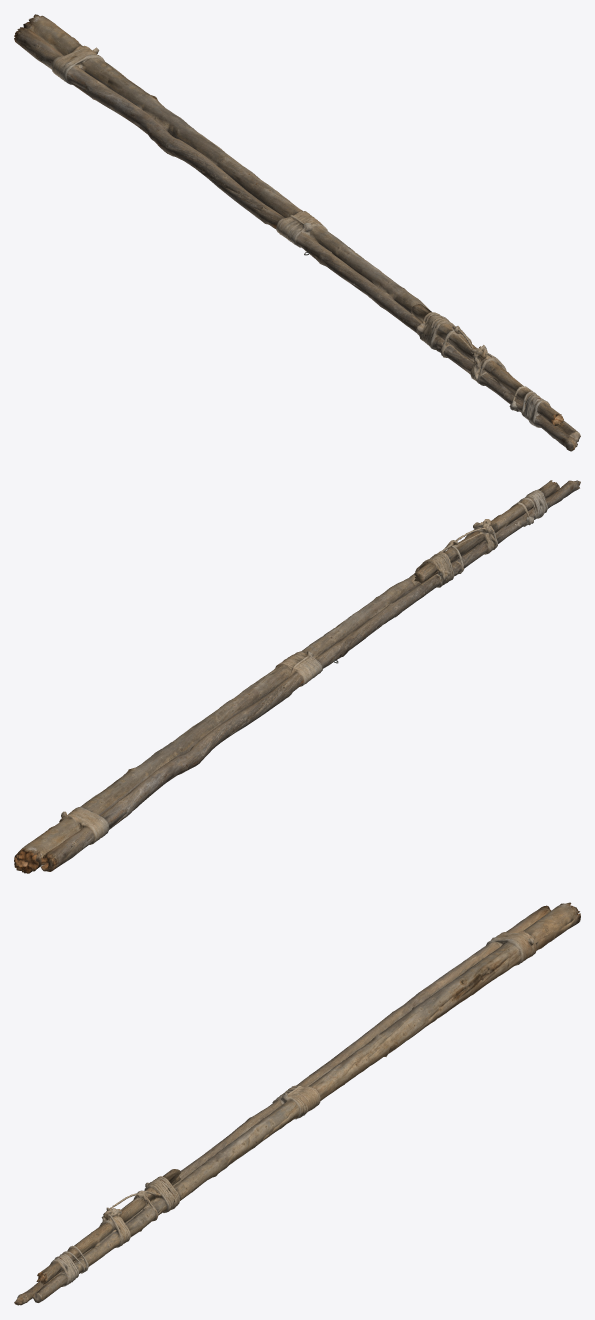
The picture shows the model from 3 angles, top to bottom: view 1: azimuth 30°, elevation 25°; view 2: azimuth 150°, elevation 25°; view 3: azimuth 330°, elevation 25°; orthographic projection. The views are drawn at different scales.
Visible parts, largest first — view 1: ueqfdi0ga_LOD0_TIER2_000; view 2: ueqfdi0ga_LOD0_TIER2_000; view 3: ueqfdi0ga_LOD0_TIER2_000.
Boxes of the visible parts, x1=… form: ueqfdi0ga_LOD0_TIER2_000: x1=14, y1=14, x2=580, y2=451; ueqfdi0ga_LOD0_TIER2_000: x1=14, y1=480, x2=580, y2=873; ueqfdi0ga_LOD0_TIER2_000: x1=14, y1=902, x2=580, y2=1305.
Size of the model in its own units: 0.223 by 0.1797 by 4.72.
Materials: 1 (1 with a texture image).
